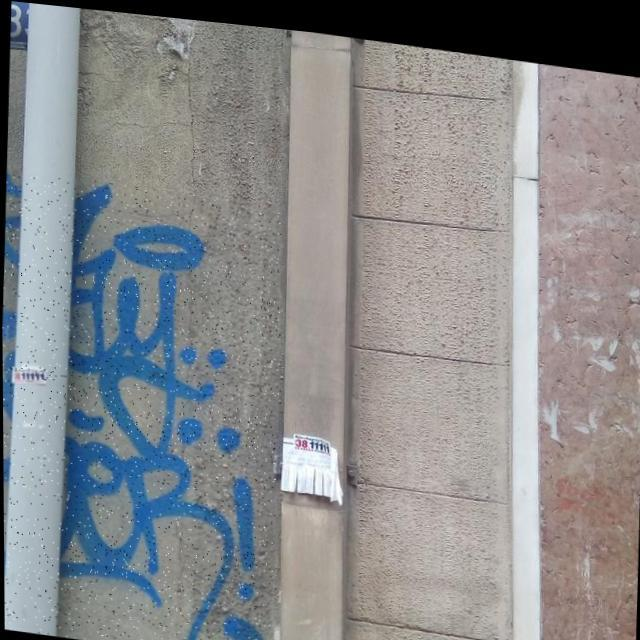-: (1, 168, 287, 640)
